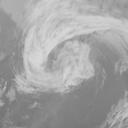cyclone: (23, 9, 96, 93)
